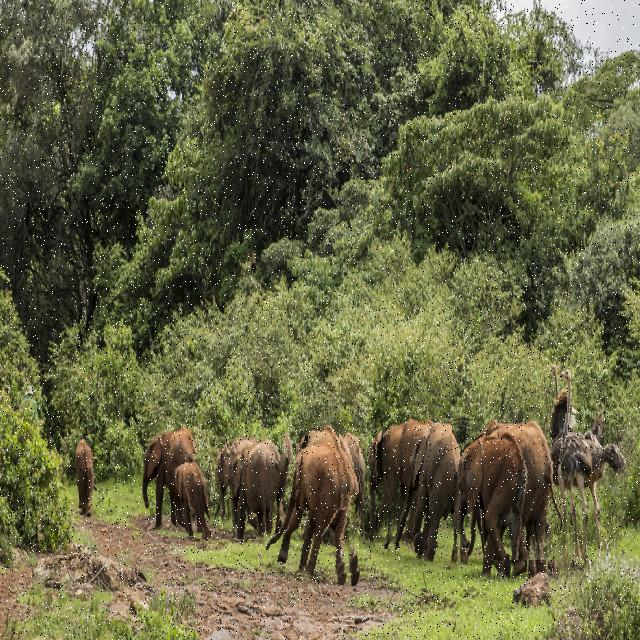elephant: (266, 432, 370, 582), (452, 421, 548, 579), (383, 418, 476, 570), (484, 414, 579, 560), (359, 424, 423, 549), (233, 435, 295, 539), (216, 430, 274, 539), (296, 413, 356, 510), (170, 454, 210, 540), (339, 422, 370, 494), (71, 434, 97, 516)
